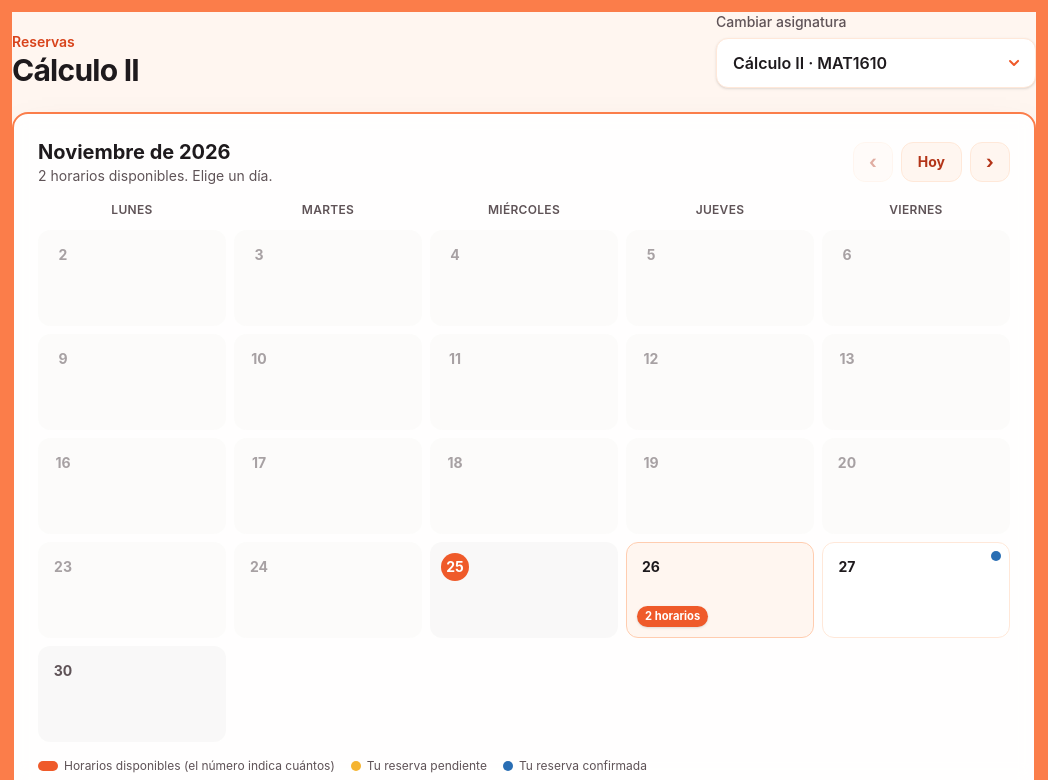
Test: Reservas › muestra el mes, sin las casillas propias, y navega entre meses
Expected: the text "2 horarios disponibles. Elige un día." is shown, [38, 166, 272, 186]
Expected: the heading "Noviembre de 2026" is shown, [38, 140, 231, 164]
Click the button named "Mes siguiente" at (990, 162), box [970, 142, 1010, 182]
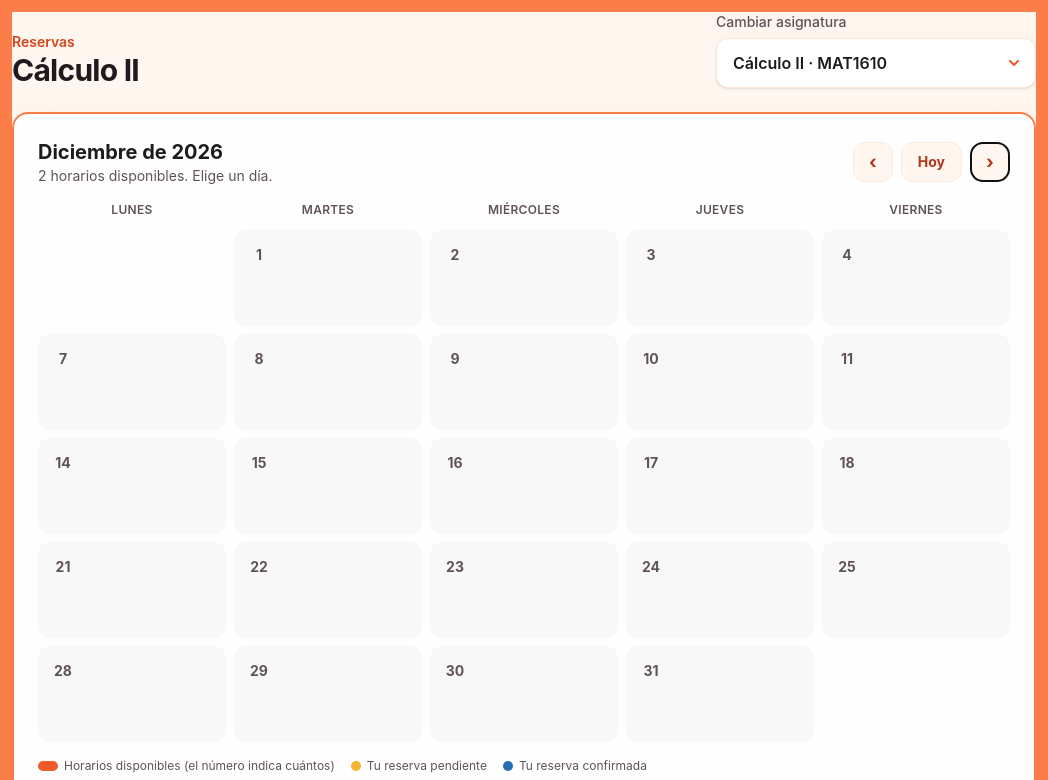
Expected: the heading "Diciembre de 2026" is shown, [38, 140, 223, 164]
